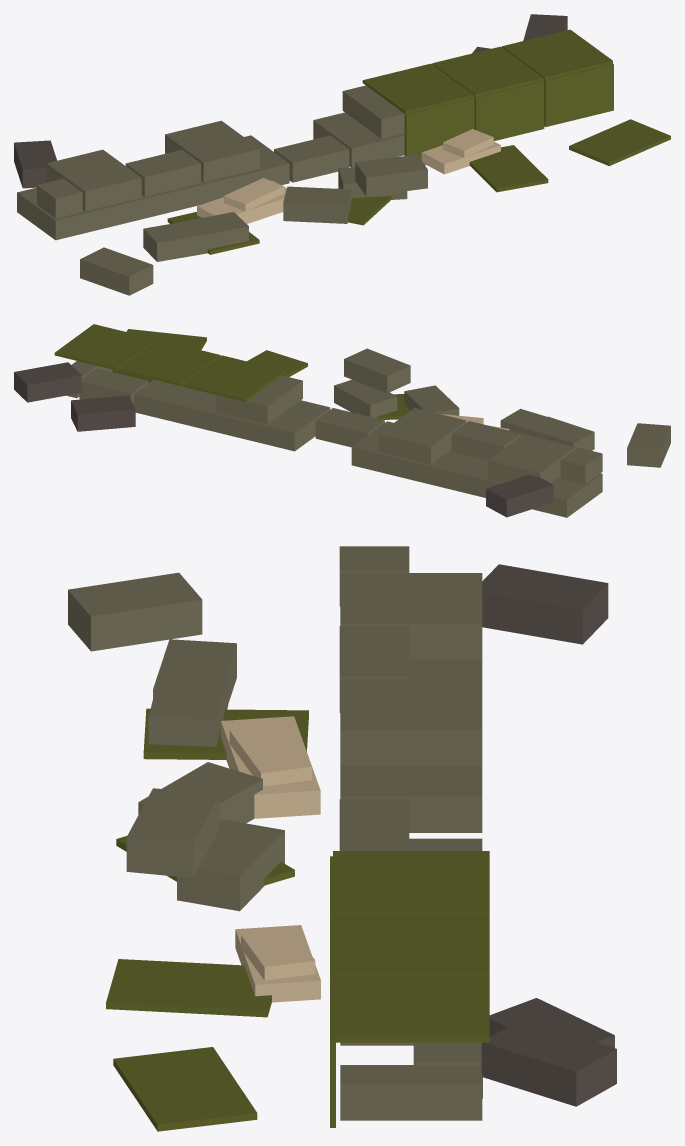
File: SM_MuroSacos_v4_Red_e2_MuyDanado_LOD1.fbx
The picture shows the model from 3 angles, top to bottom: view 1: azimuth 30°, elevation 25°; view 2: azimuth 150°, elevation 25°; view 3: azimuth 270°, elevation 25°; orthographic projection. The views are drawn at different scales.
Parts seen in each view (by area): view 1: SM_bloques.muro_sacos_estados_v18_LOD1; view 2: SM_bloques.muro_sacos_estados_v18_LOD1; view 3: SM_bloques.muro_sacos_estados_v18_LOD1.
Boxes of the visible parts, x1=… form: SM_bloques.muro_sacos_estados_v18_LOD1: x1=14, y1=14, x2=670, y2=295; SM_bloques.muro_sacos_estados_v18_LOD1: x1=14, y1=324, x2=670, y2=517; SM_bloques.muro_sacos_estados_v18_LOD1: x1=68, y1=546, x2=616, y2=1131.
Bounding box in the file's own units: 8.54 × 0.7939 × 3.71.
